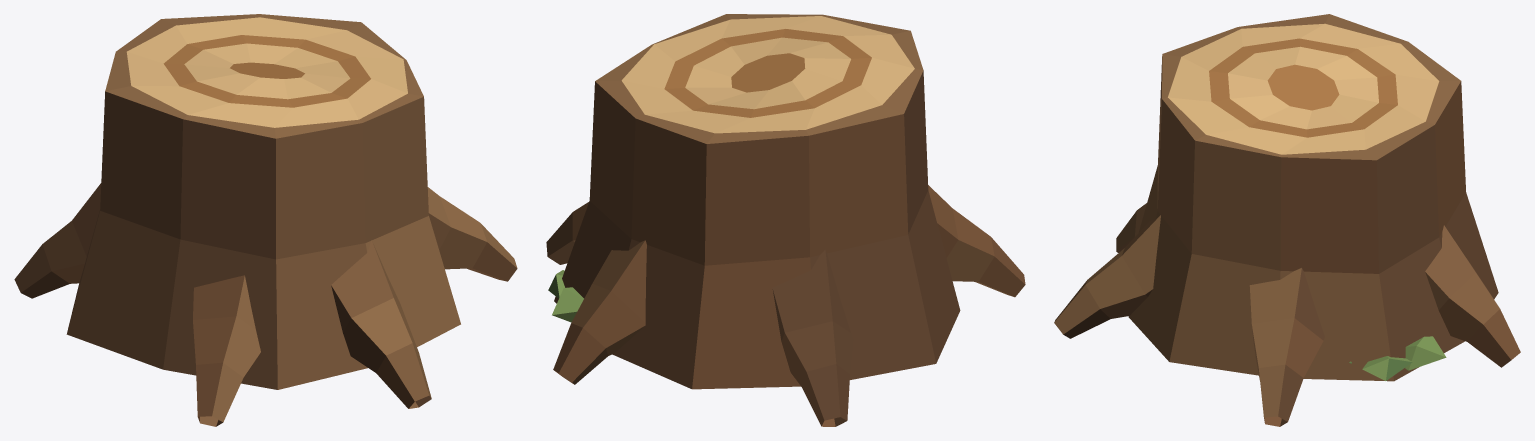
File: stump_round.glb
The picture shows the model from 3 angles, left to right: view 1: azimuth 30°, elevation 25°; view 2: azimuth 150°, elevation 25°; view 3: azimuth 270°, elevation 25°; orthographic projection. The views are drawn at different scales.
Parts seen in each view (by area): view 1: stump_round.002; view 2: stump_round.002; view 3: stump_round.002.
Boxes of the visible parts, x1,y1,x2,y2 form: stump_round.002: (14, 14, 517, 426); stump_round.002: (546, 14, 1025, 426); stump_round.002: (1054, 14, 1520, 426).
Size of the model in its own units: 0.9984 by 0.6 by 1.03.
